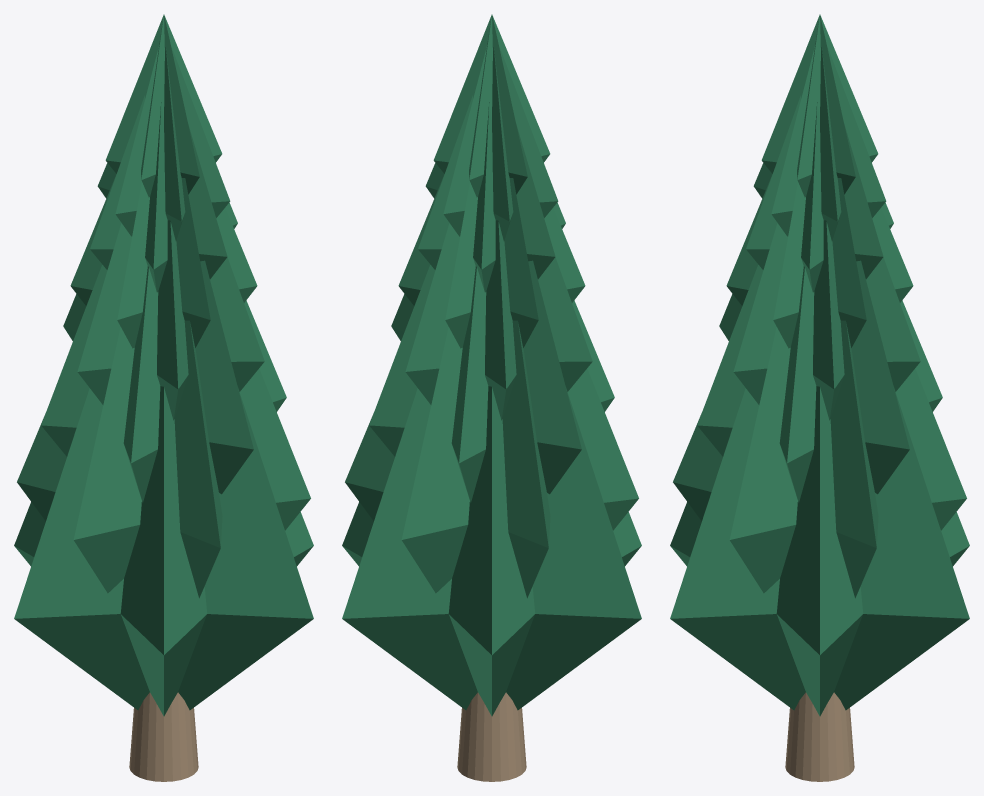
File: pine.glb
The picture shows the model from 3 angles, left to right: view 1: azimuth 30°, elevation 25°; view 2: azimuth 150°, elevation 25°; view 3: azimuth 270°, elevation 25°; orthographic projection.
Parts seen in each view (by area): view 1: Mesh_Mesh_head_geo.001_lambert2SG.001; view 2: Mesh_Mesh_head_geo.001_lambert2SG.001; view 3: Mesh_Mesh_head_geo.001_lambert2SG.001.
Part boxes in pixels (<box>): Mesh_Mesh_head_geo.001_lambert2SG.001: <box>14,14,313,781</box>; Mesh_Mesh_head_geo.001_lambert2SG.001: <box>342,14,641,781</box>; Mesh_Mesh_head_geo.001_lambert2SG.001: <box>670,14,969,781</box>.
Bounding box in the file's own units: 0.04 × 0.096 × 0.0346.
